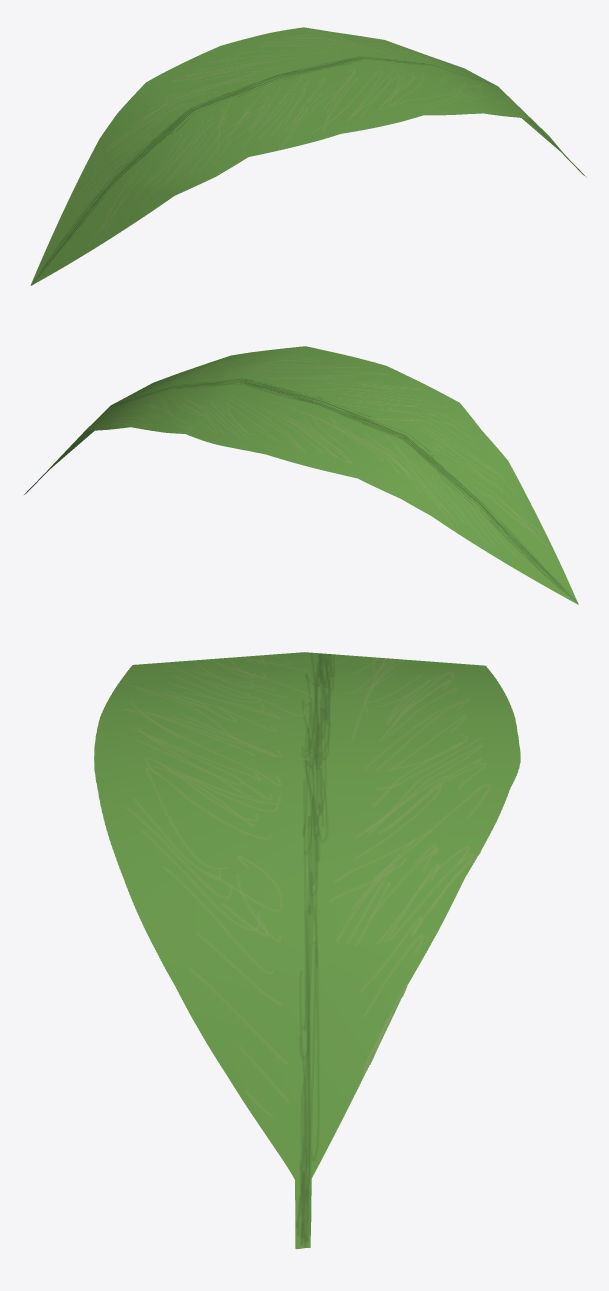
The model's file is Leaf1.fbx.
3 views of the same model, one above another, from view 1: azimuth 30°, elevation 25°; view 2: azimuth 150°, elevation 25°; view 3: azimuth 270°, elevation 25° (orthographic). The views are drawn at different scales.
Parts seen in each view (by area): view 1: Leaf1; view 2: Leaf1; view 3: Leaf1.
Boxes of the visible parts, left/top/right/bottom form: Leaf1: left=30, top=27, right=586, bottom=285; Leaf1: left=24, top=346, right=578, bottom=604; Leaf1: left=94, top=652, right=520, bottom=1249.
Size of the model in its own units: 1.45 by 0.4379 by 0.7323.
1 material, 1 textured.
